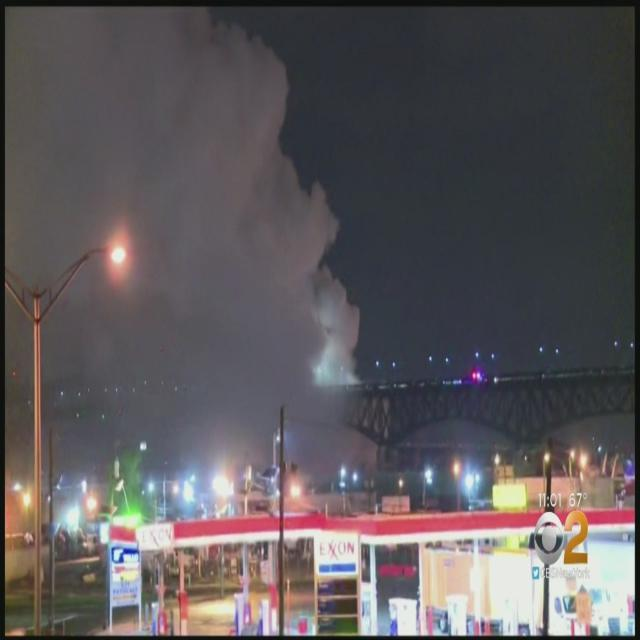Smoke: (157, 51, 337, 404)
